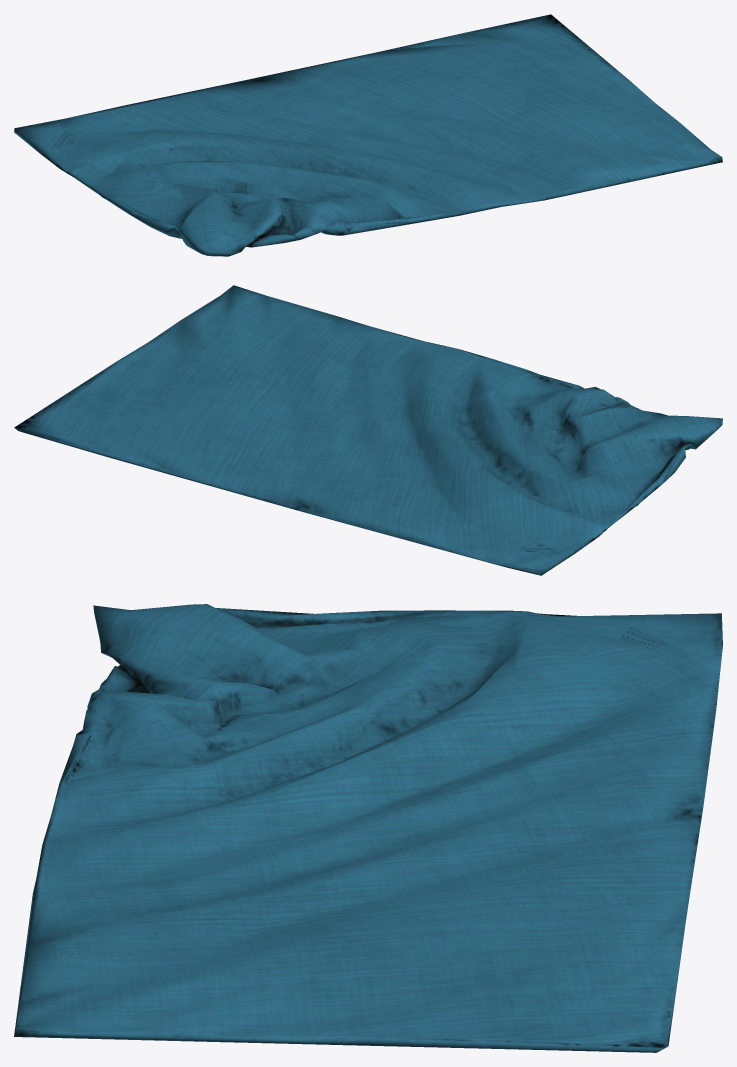
File: Blanket.fbx
3 renders of one model, top to bottom at view 1: azimuth 30°, elevation 25°; view 2: azimuth 150°, elevation 25°; view 3: azimuth 270°, elevation 25°, orthographic. The views are drawn at different scales.
Parts seen in each view (by area): view 1: Blanket2_Blanket2_0; view 2: Blanket2_Blanket2_0; view 3: Blanket2_Blanket2_0.
Boxes of the visible parts, left/top/right/bottom form: Blanket2_Blanket2_0: left=14, top=14, right=722, bottom=256; Blanket2_Blanket2_0: left=14, top=285, right=722, bottom=575; Blanket2_Blanket2_0: left=14, top=604, right=722, bottom=1052.
Size of the model in its own units: 1072 by 43.12 by 735.
1 material, 1 textured.
